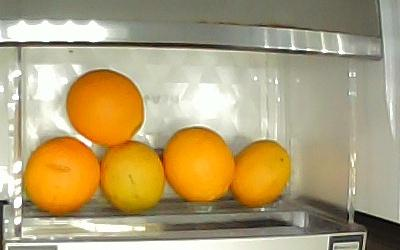orange: (24, 136, 100, 216), (67, 69, 144, 146), (161, 126, 236, 202), (101, 141, 166, 213), (232, 139, 292, 208)
